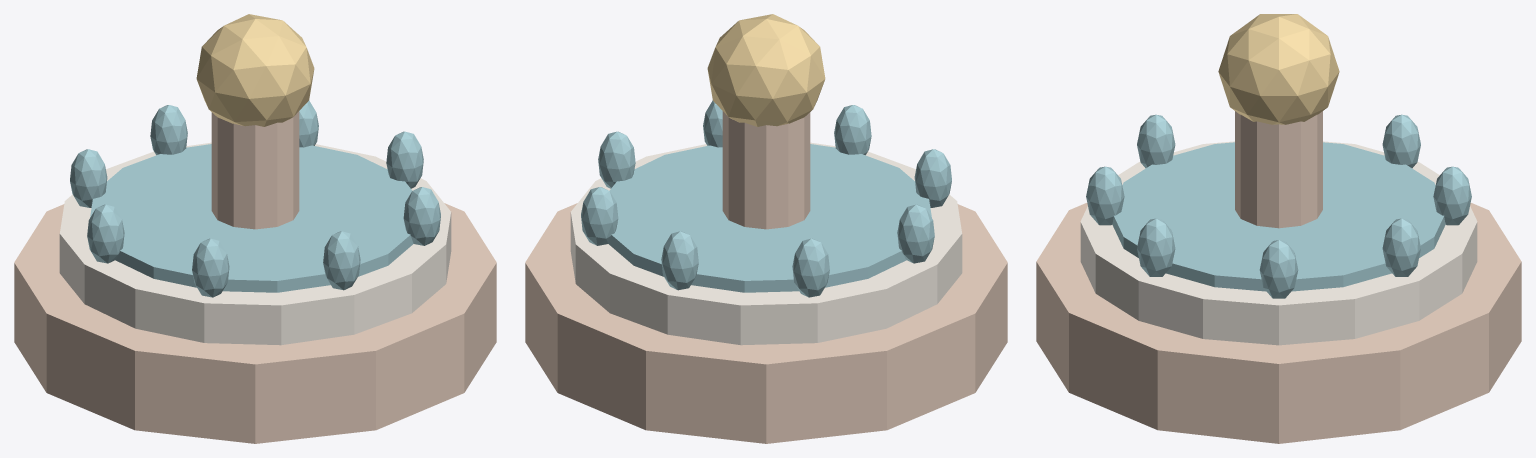
Rendered from Obstacle_Fountain.glb.
3 views of the same model, side by side, from view 1: azimuth 30°, elevation 25°; view 2: azimuth 150°, elevation 25°; view 3: azimuth 270°, elevation 25° (orthographic).
Parts seen in each view (by area): view 1: Fountain_plinth, Fountain_water, Fountain_basin, Fountain_finial, Fountain_column, Fountain_splash_5, Fountain_splash_6, Fountain_splash_4, Fountain_splash_7, Fountain_splash_3, Fountain_splash_0, Fountain_splash_2 (+1 smaller); view 2: Fountain_plinth, Fountain_water, Fountain_basin, Fountain_finial, Fountain_column, Fountain_splash_3, Fountain_splash_2, Fountain_splash_4, Fountain_splash_1, Fountain_splash_5, Fountain_splash_0, Fountain_splash_6 (+1 smaller); view 3: Fountain_plinth, Fountain_water, Fountain_basin, Fountain_finial, Fountain_column, Fountain_splash_0, Fountain_splash_1, Fountain_splash_7, Fountain_splash_2, Fountain_splash_6, Fountain_splash_3, Fountain_splash_5.
Part boxes in pixels (bbox=[...]): Fountain_plinth: bbox=[14, 203, 496, 443]; Fountain_water: bbox=[90, 144, 413, 292]; Fountain_basin: bbox=[59, 142, 451, 345]; Fountain_finial: bbox=[196, 14, 314, 126]; Fountain_column: bbox=[211, 111, 299, 229]; Fountain_splash_5: bbox=[192, 238, 229, 297]; Fountain_splash_6: bbox=[323, 231, 360, 290]; Fountain_splash_4: bbox=[87, 204, 124, 263]; Fountain_splash_7: bbox=[403, 187, 440, 245]; Fountain_splash_3: bbox=[70, 149, 107, 207]; Fountain_splash_0: bbox=[386, 131, 423, 188]; Fountain_splash_2: bbox=[150, 105, 187, 155]; Fountain_plinth: bbox=[525, 203, 1007, 443]; Fountain_water: bbox=[608, 144, 931, 292]; Fountain_basin: bbox=[570, 142, 962, 345]; Fountain_finial: bbox=[707, 14, 825, 126]; Fountain_column: bbox=[722, 111, 810, 229]; Fountain_splash_3: bbox=[792, 238, 829, 297]; Fountain_splash_2: bbox=[661, 231, 698, 290]; Fountain_splash_4: bbox=[897, 204, 934, 263]; Fountain_splash_1: bbox=[581, 187, 618, 245]; Fountain_splash_5: bbox=[914, 149, 951, 207]; Fountain_splash_0: bbox=[598, 131, 635, 188]; Fountain_splash_6: bbox=[834, 105, 871, 155]; Fountain_plinth: bbox=[1036, 203, 1521, 443]; Fountain_water: bbox=[1112, 142, 1445, 291]; Fountain_basin: bbox=[1080, 141, 1477, 345]; Fountain_finial: bbox=[1218, 14, 1339, 124]; Fountain_column: bbox=[1235, 111, 1322, 228]; Fountain_splash_0: bbox=[1259, 240, 1298, 298]; Fountain_splash_1: bbox=[1382, 218, 1420, 276]; Fountain_splash_7: bbox=[1137, 218, 1175, 276]; Fountain_splash_2: bbox=[1433, 166, 1471, 225]; Fountain_splash_6: bbox=[1086, 166, 1124, 225]; Fountain_splash_3: bbox=[1382, 114, 1420, 168]; Fountain_splash_5: bbox=[1137, 114, 1175, 168].
Bounding box in the file's own units: 1.76 × 1.3 × 1.76.
